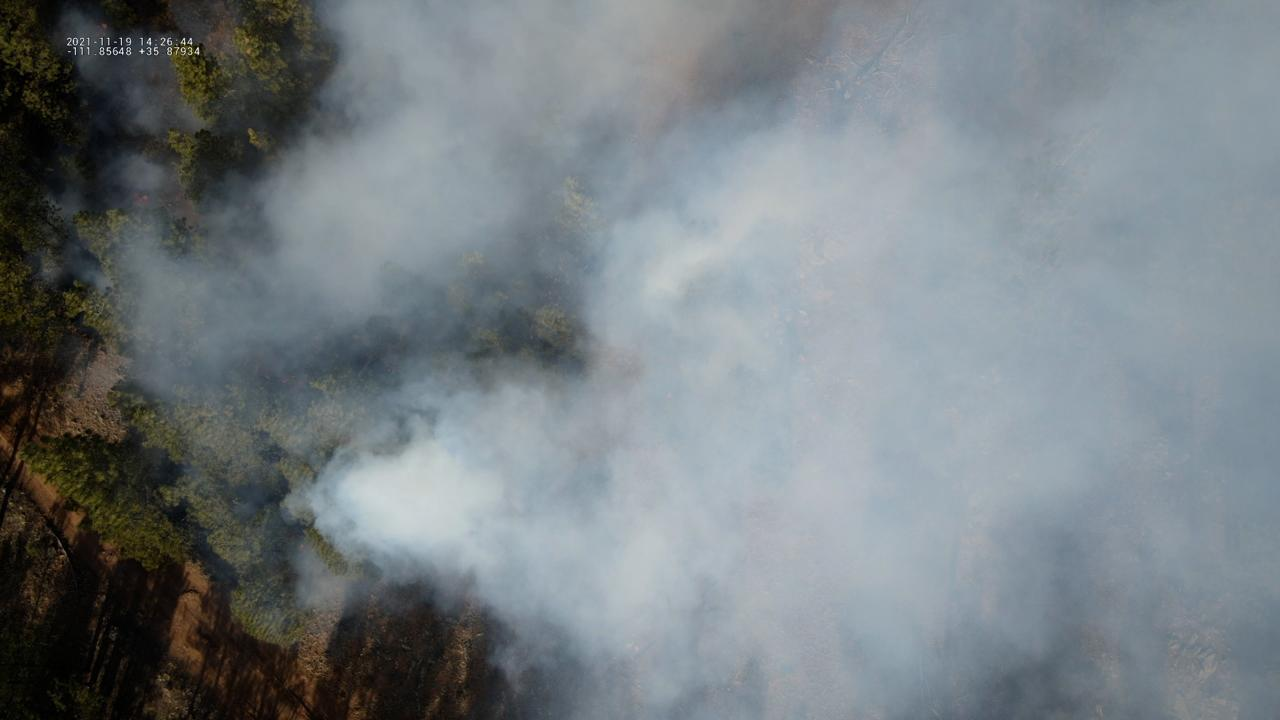fire: (124, 184, 153, 210), (94, 23, 110, 34)
smoke: (24, 0, 1280, 720)
